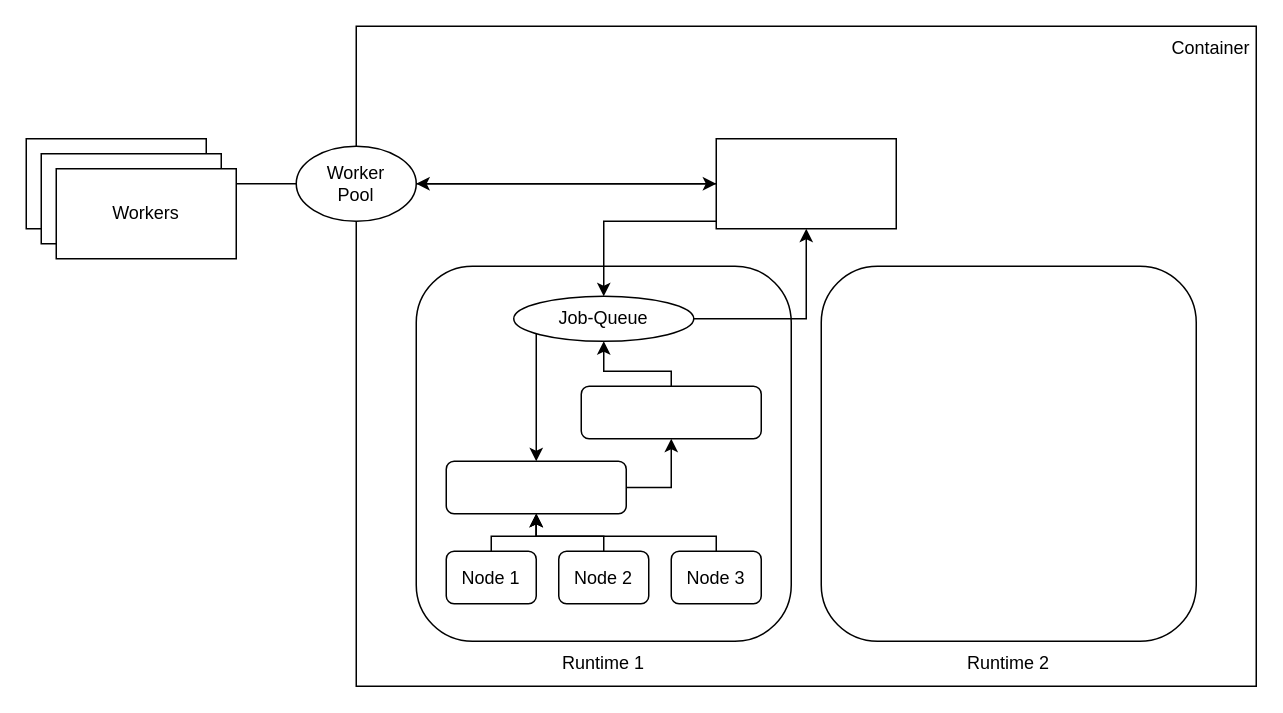
This 1283x713 diagram has some shape labels left out. The centre of each missing label's shape, as x and y in pixels:
Broker: [805,183]
Message Cache: [670,412]
Message Router: [535,487]
